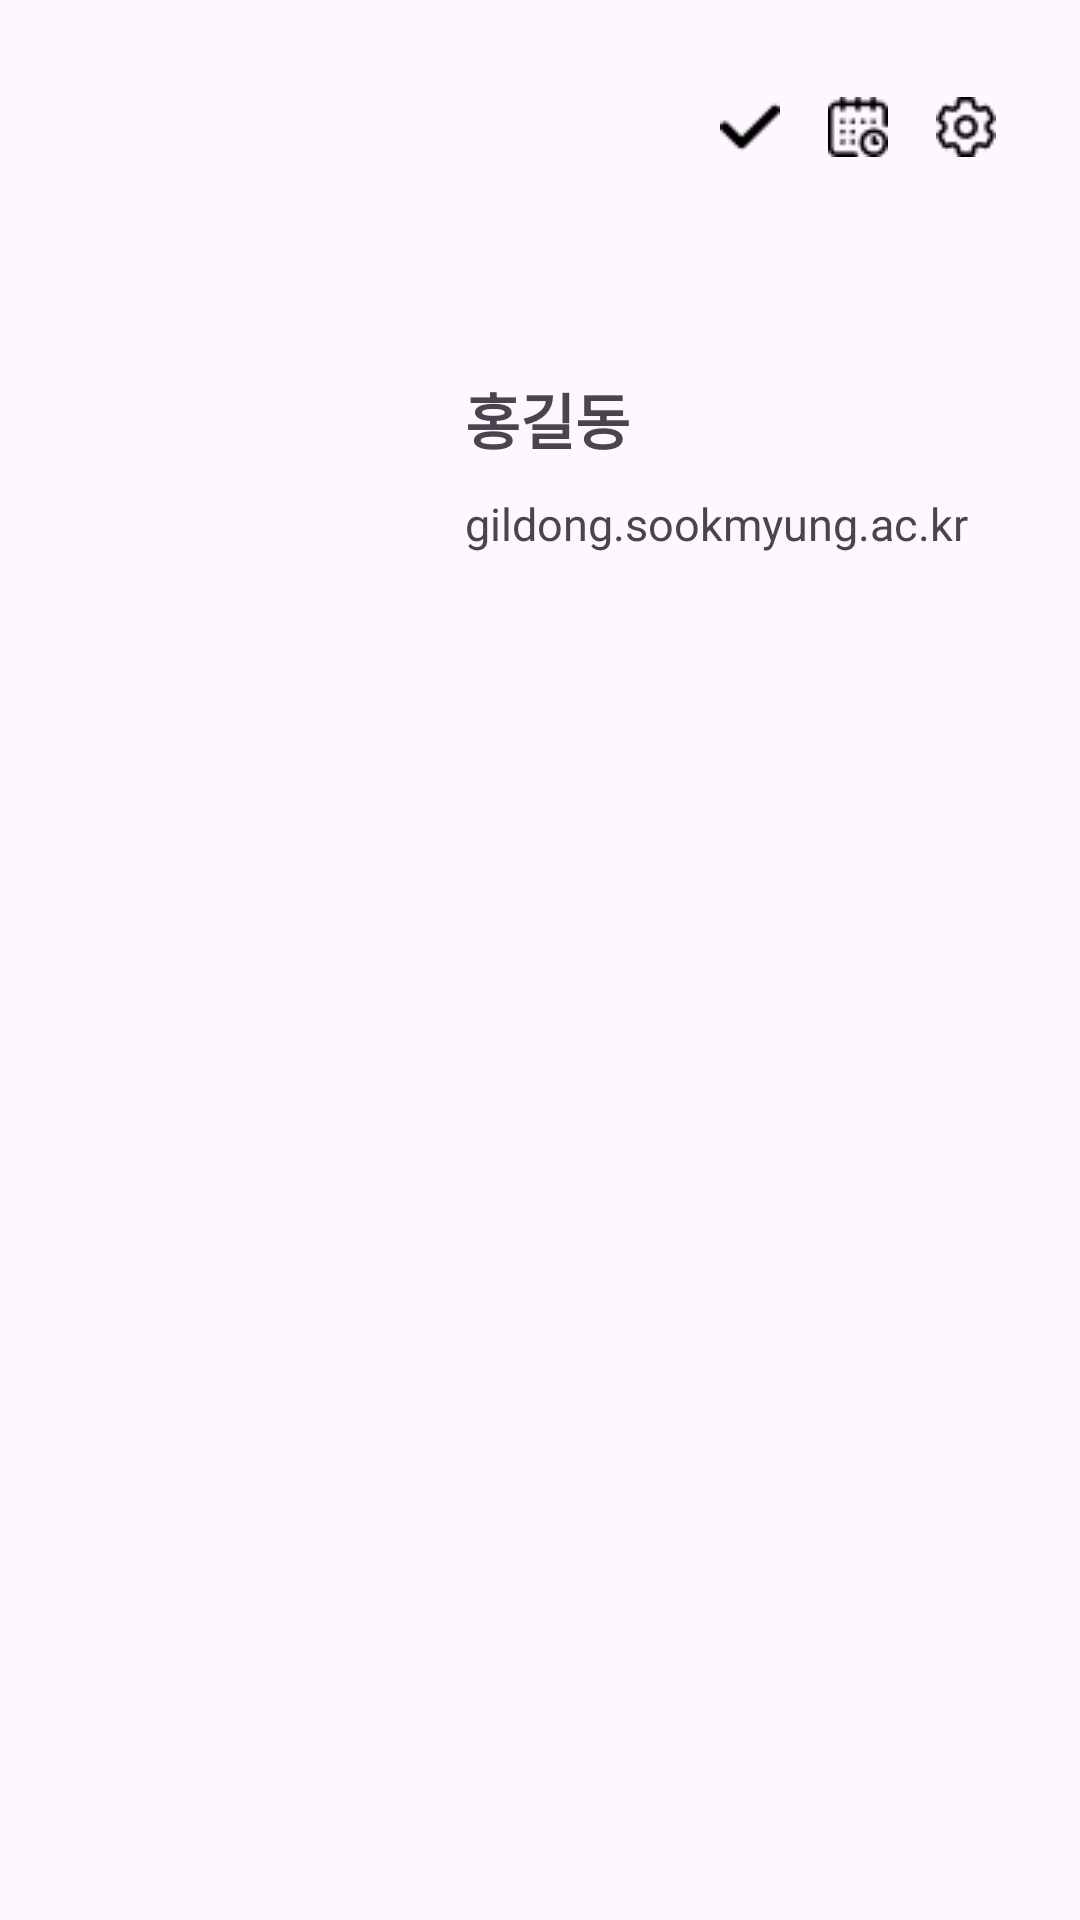

Icon bounding boxes for this 1080 × 1920 phone screenshot, format box(x1, y1, x2, y2):
calendar: box(828, 97, 888, 157)
check: box(720, 103, 780, 150)
setting: box(936, 97, 996, 157)
